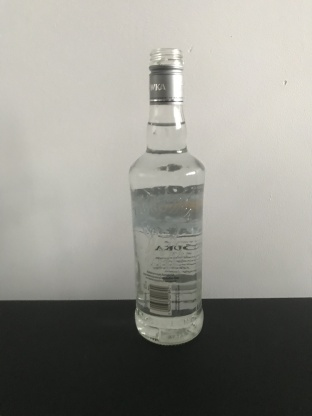nakretka: (147, 48, 185, 106)
